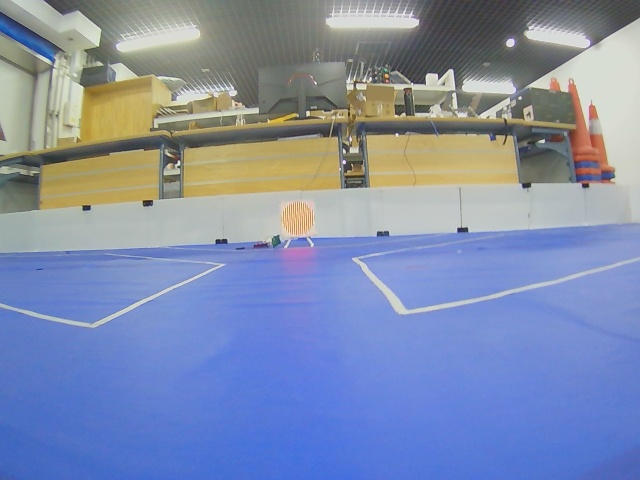red: (280, 201, 315, 237)
